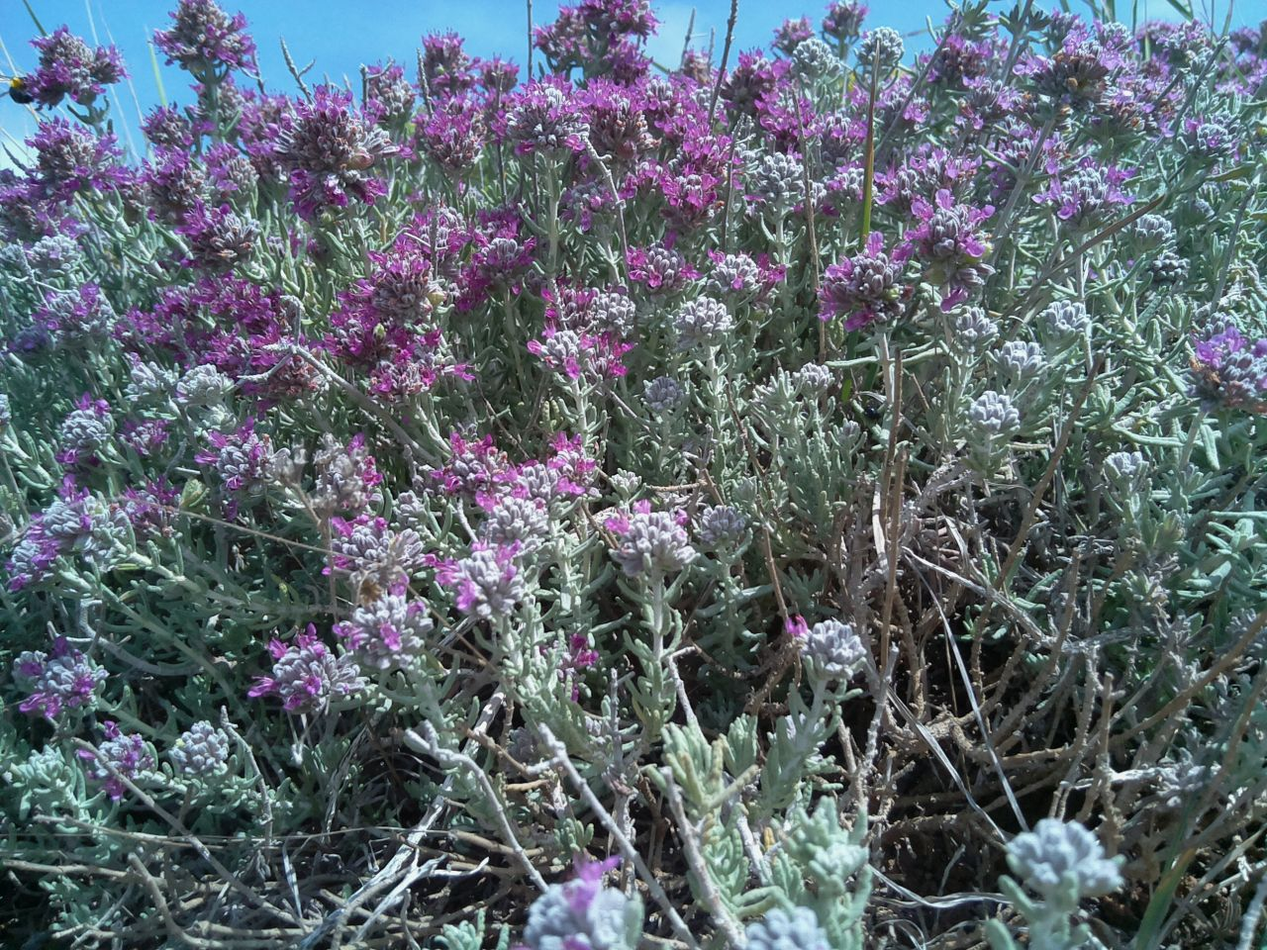Beetle: (861, 401, 888, 427)
bee: (7, 65, 49, 119)
